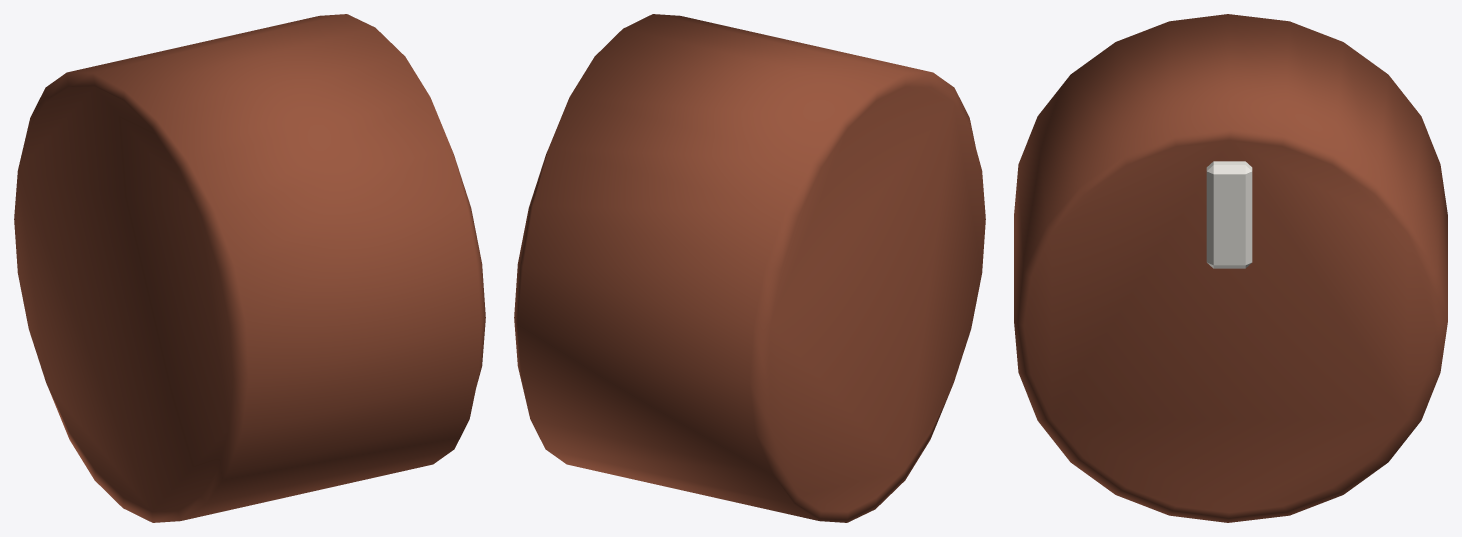
File: l_kitchen_compact_oven_knob_1.glb
3 renders of one model, left to right at view 1: azimuth 30°, elevation 25°; view 2: azimuth 150°, elevation 25°; view 3: azimuth 270°, elevation 25°, orthographic. The views are drawn at different scales.
Visible parts, largest first — view 1: l_kitchen_compact_oven_knob_1; view 2: l_kitchen_compact_oven_knob_1; view 3: l_kitchen_compact_oven_knob_1.
Part boxes in pixels (<box>): l_kitchen_compact_oven_knob_1: <box>14,14,485,522</box>; l_kitchen_compact_oven_knob_1: <box>514,14,985,522</box>; l_kitchen_compact_oven_knob_1: <box>1014,14,1447,522</box>.
Size of the model in its own units: 0.0255 by 0.038 by 0.038.
